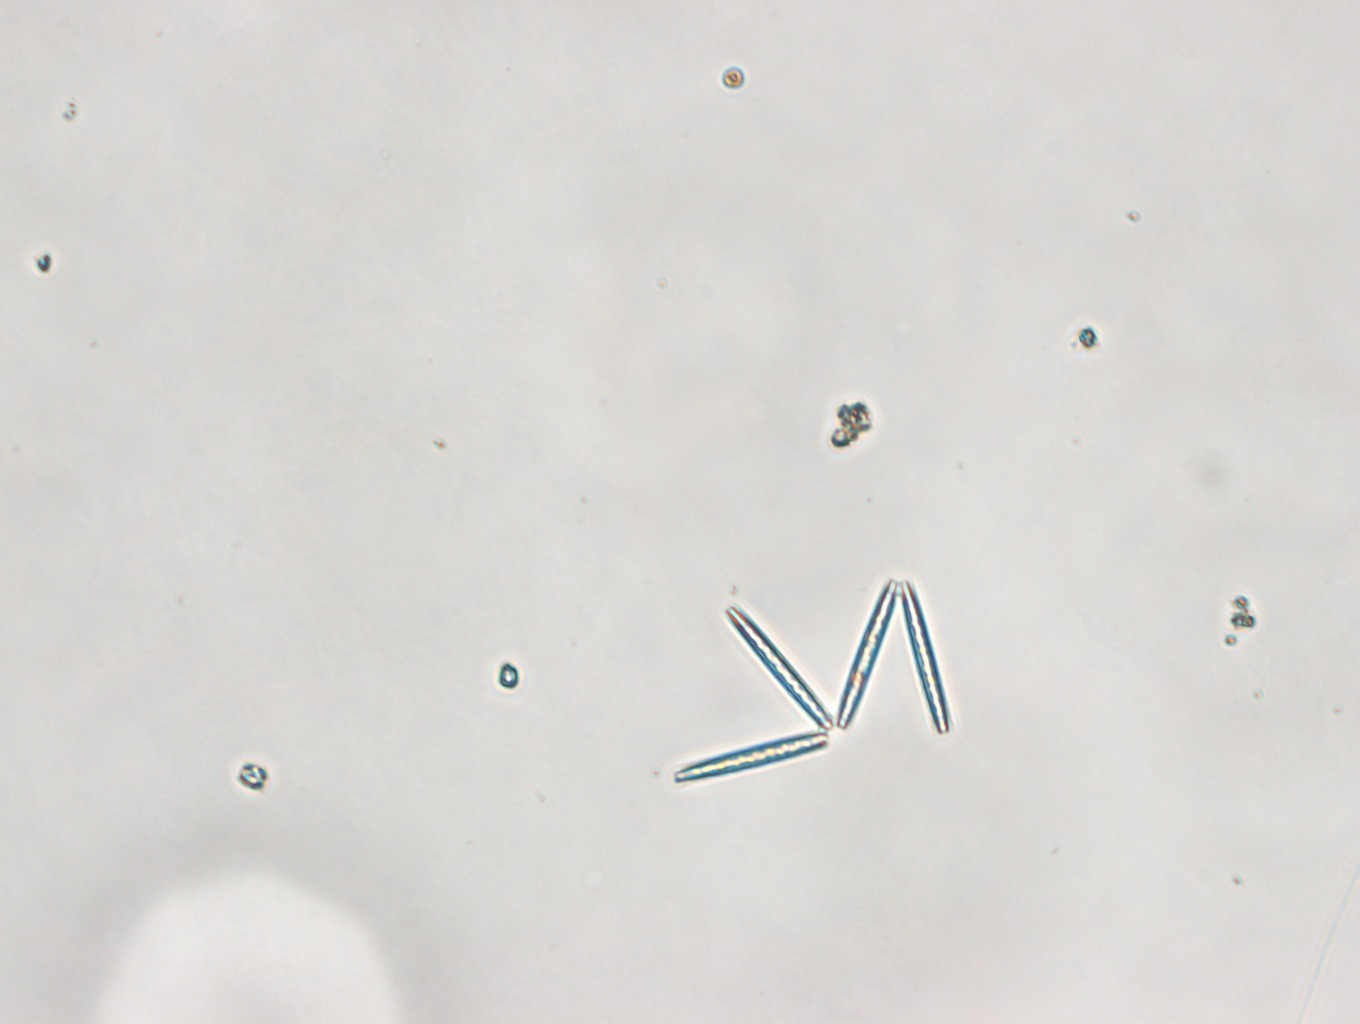thalassionema nitzschioides: (672, 578, 950, 785)
